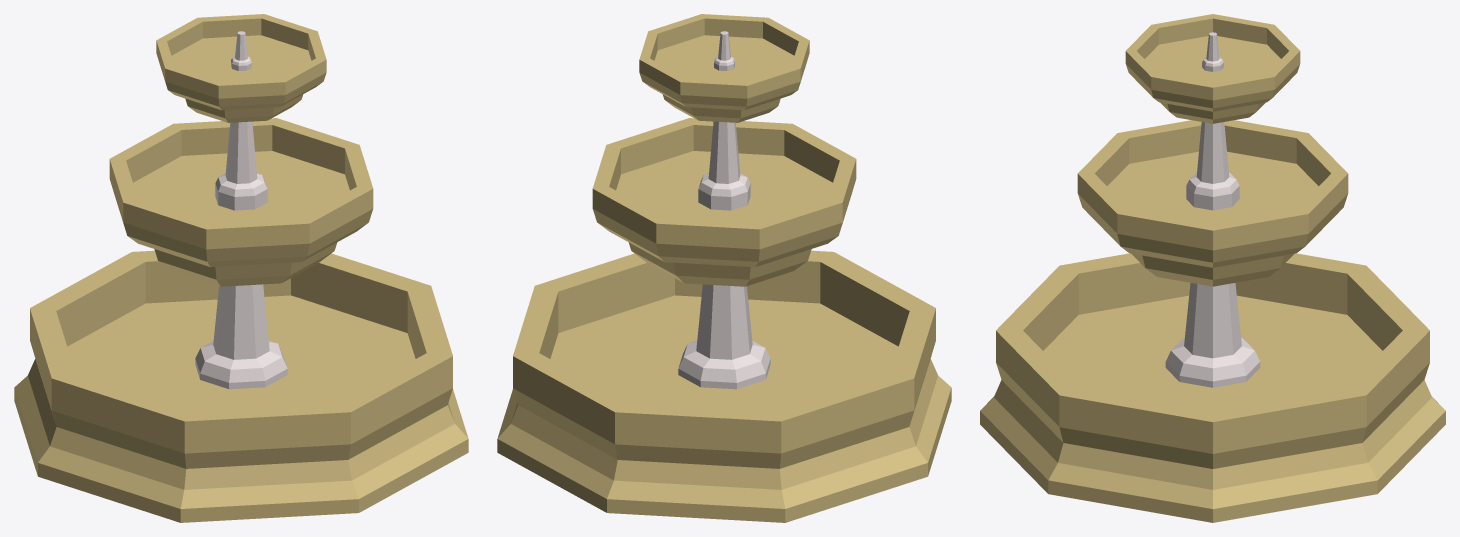
The model's file is 분수대테스트9.fbx.
3 views of the same model, side by side, from view 1: azimuth 30°, elevation 25°; view 2: azimuth 150°, elevation 25°; view 3: azimuth 270°, elevation 25° (orthographic).
Parts seen in each view (by area): view 1: Cylinder, Cylinder.001; view 2: Cylinder, Cylinder.001; view 3: Cylinder, Cylinder.001.
Boxes of the visible parts, <box> form: Cylinder: <box>14,14,468,522</box>; Cylinder.001: <box>195,31,287,389</box>; Cylinder: <box>497,14,951,522</box>; Cylinder.001: <box>678,31,770,389</box>; Cylinder: <box>980,14,1445,522</box>; Cylinder.001: <box>1165,32,1260,387</box>.
Bounding box in the file's own units: 76.58 × 70.82 × 76.58.
